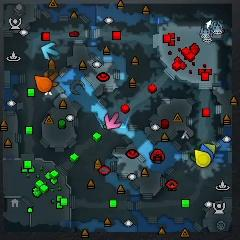p1: (200, 144, 214, 161)
p4: (194, 150, 210, 167)
p5: (34, 75, 53, 93)
x1: (104, 113, 122, 129)
x2: (204, 143, 215, 155)
x3: (41, 42, 59, 60)
x4: (190, 146, 200, 162)
x5: (43, 70, 60, 87)
